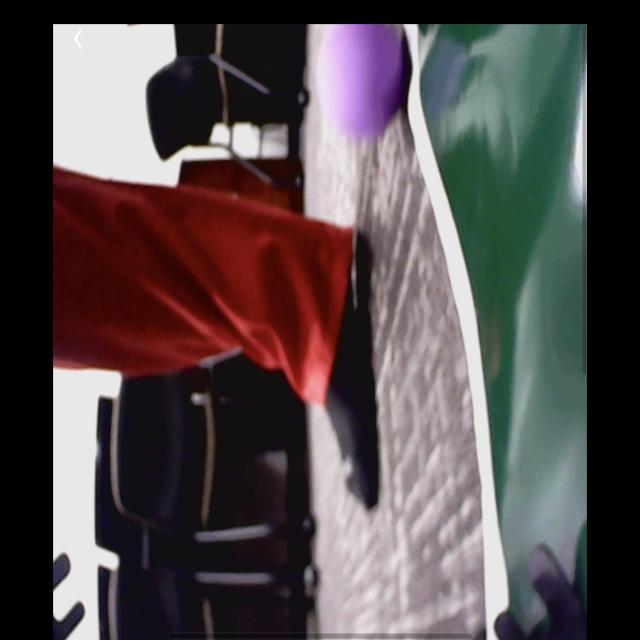ball: (325, 29, 406, 138)
